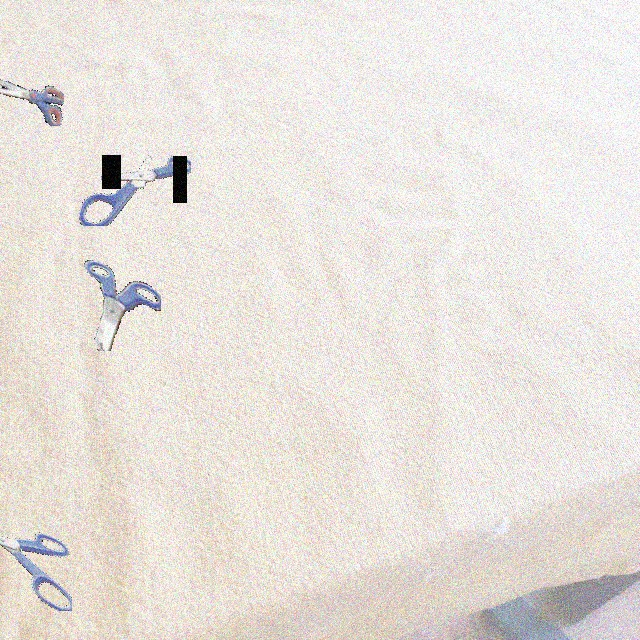scissors: (78, 155, 191, 226), (84, 260, 161, 351), (0, 518, 72, 611), (0, 78, 64, 126)
